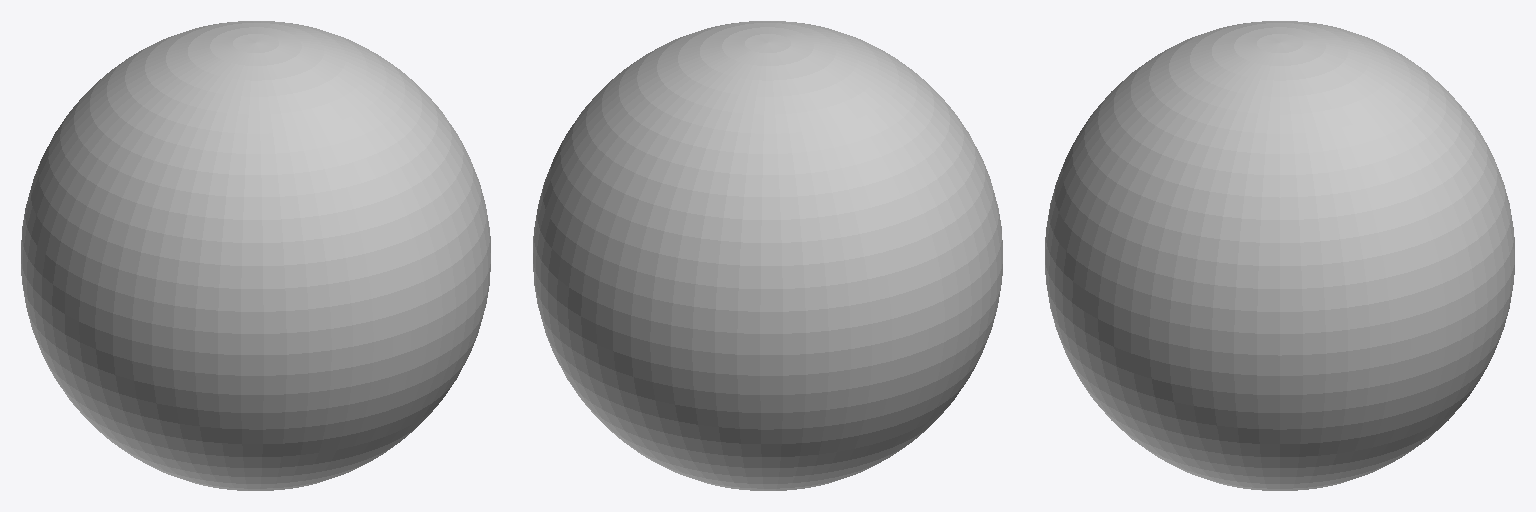
Rendered from neptune.obj.
3 renders of one model, left to right at view 1: azimuth 30°, elevation 25°; view 2: azimuth 150°, elevation 25°; view 3: azimuth 270°, elevation 25°, orthographic.
Visible parts, largest first — view 1: Esfera_UV; view 2: Esfera_UV; view 3: Esfera_UV.
Part boxes in pixels (bbox=[...]): Esfera_UV: bbox=[21, 21, 490, 490]; Esfera_UV: bbox=[533, 21, 1002, 490]; Esfera_UV: bbox=[1045, 21, 1514, 490].
Size of the model in its own units: 7.8 by 7.8 by 7.8.